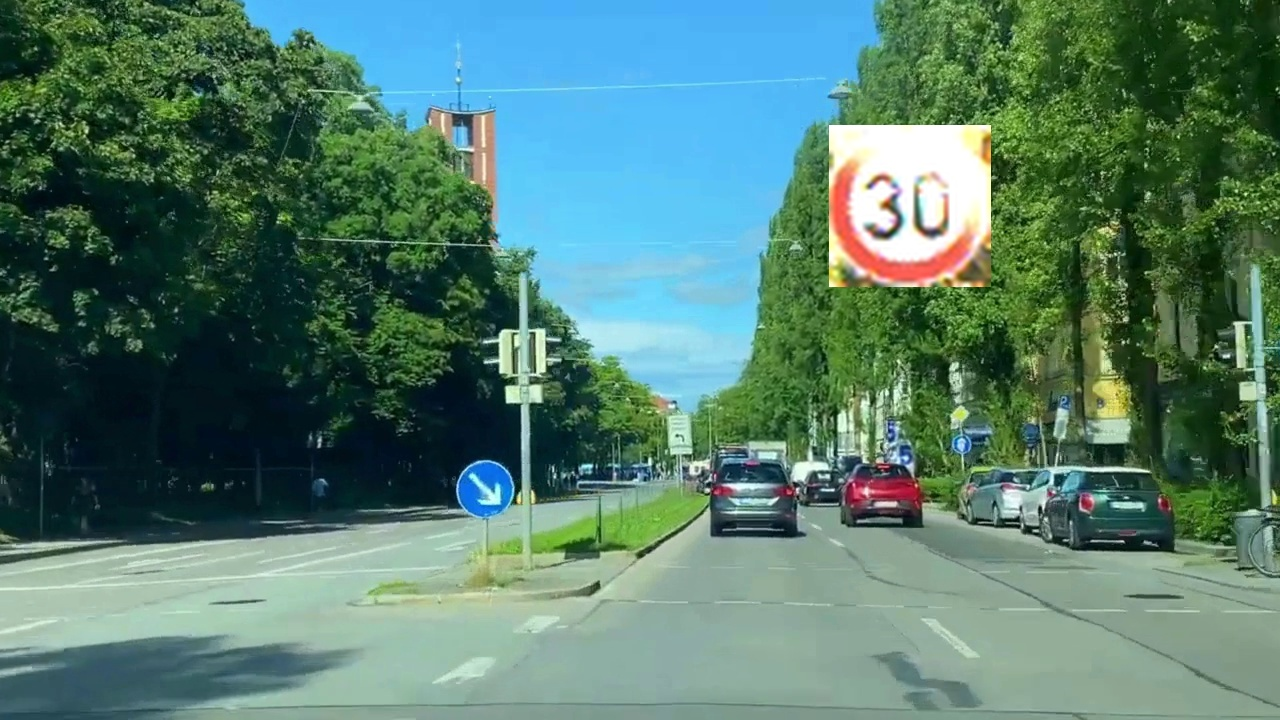Speed 30: (829, 125, 991, 287)
